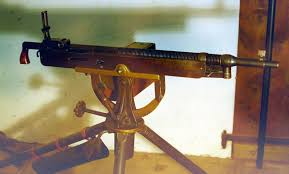gun: (18, 9, 280, 108)
